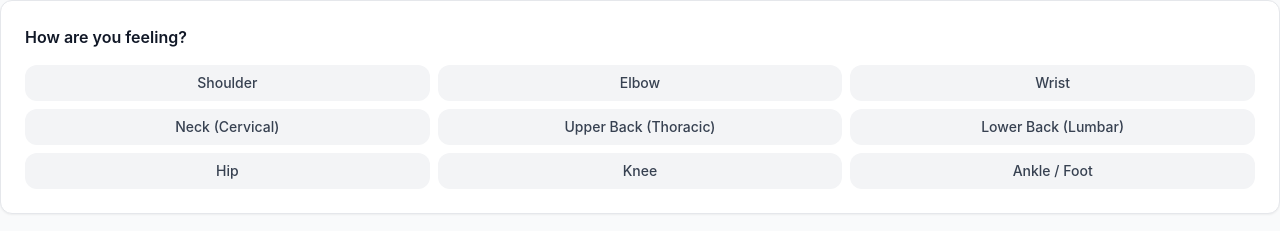
can go back to region picking via Change
The image size is (1280, 231).
Click the button "Knee" at [640, 171], box top-left (438, 153), bottom-right (842, 189)
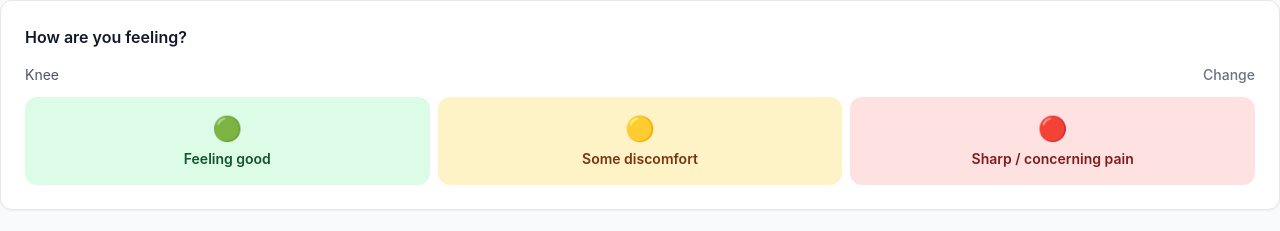
Click the button "Change" at [1229, 75], box top-left (1203, 65), bottom-right (1255, 85)
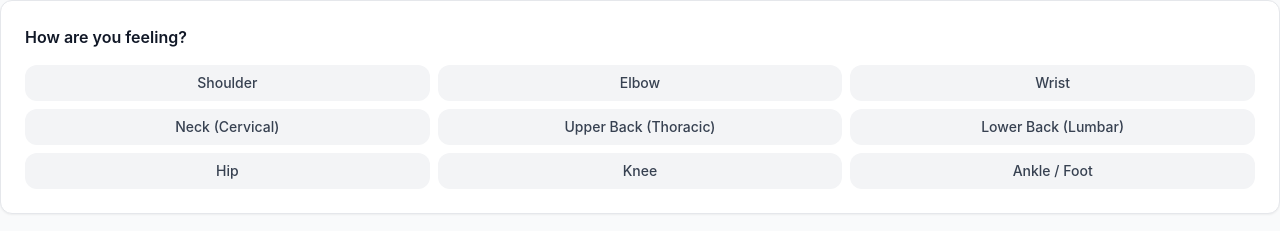
Now the button "Shoulder" is shown, box top-left (25, 65), bottom-right (430, 101)
